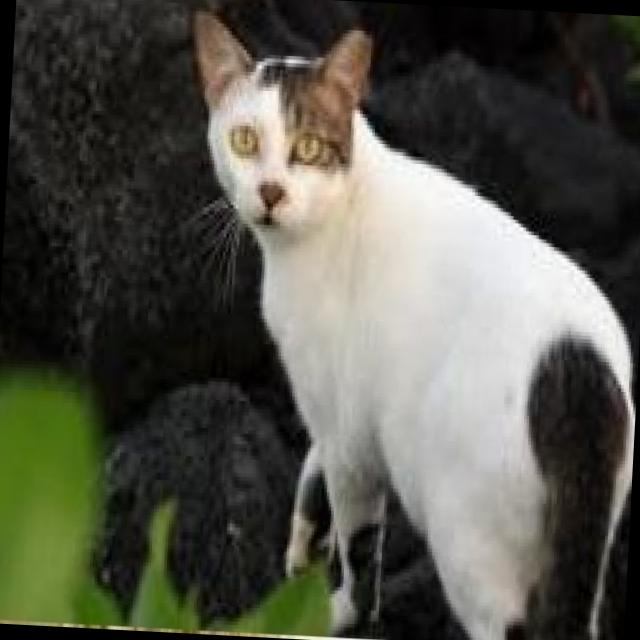Gato: (158, 0, 640, 640)
